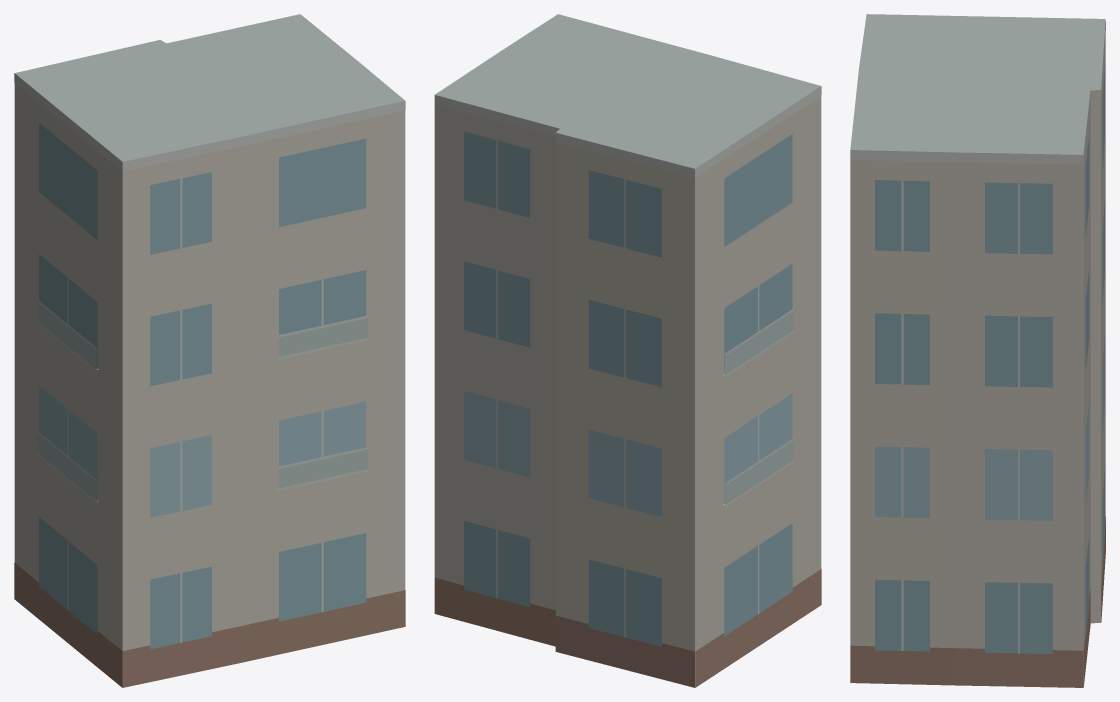
The model's file is survey-upis-32469891.glb.
3 views of the same model, side by side, from view 1: azimuth 30°, elevation 25°; view 2: azimuth 150°, elevation 25°; view 3: azimuth 270°, elevation 25° (orthographic). The views are drawn at different scales.
Parts seen in each view (by area): view 1: survey-upis-32469891.tmp; view 2: survey-upis-32469891.tmp; view 3: survey-upis-32469891.tmp.
Boxes of the visible parts, x1,y1,x2,y2 form: survey-upis-32469891.tmp: (14,14,405,687); survey-upis-32469891.tmp: (434,14,821,687); survey-upis-32469891.tmp: (850,14,1105,687).
Bounding box in the file's own units: 7.63 × 13.45 × 5.85.
